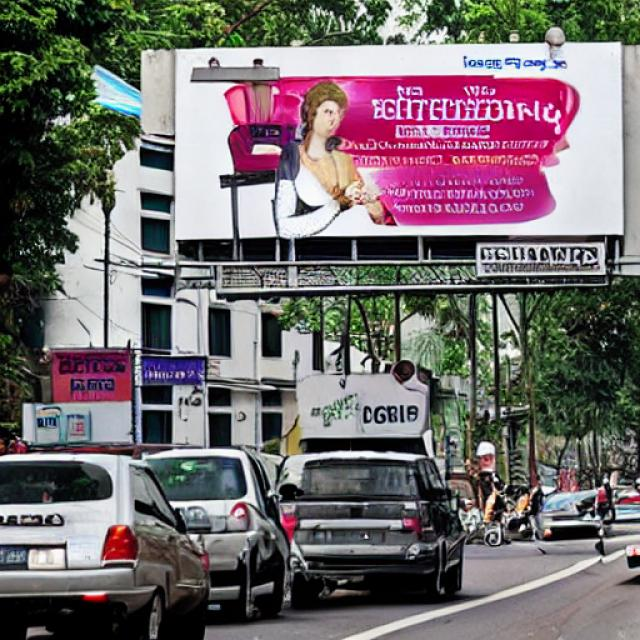Billboard: (167, 40, 628, 272)
